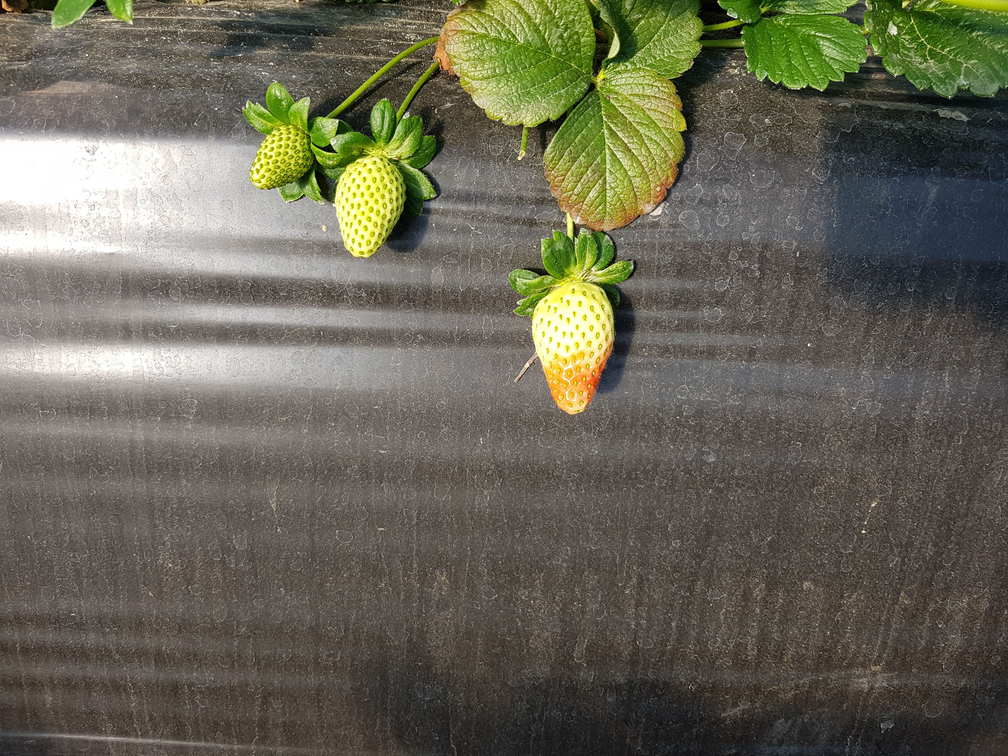peduncle: (326, 37, 436, 117), (397, 63, 438, 119)
strawberry: (533, 281, 612, 412), (335, 156, 405, 256), (250, 125, 311, 188)
